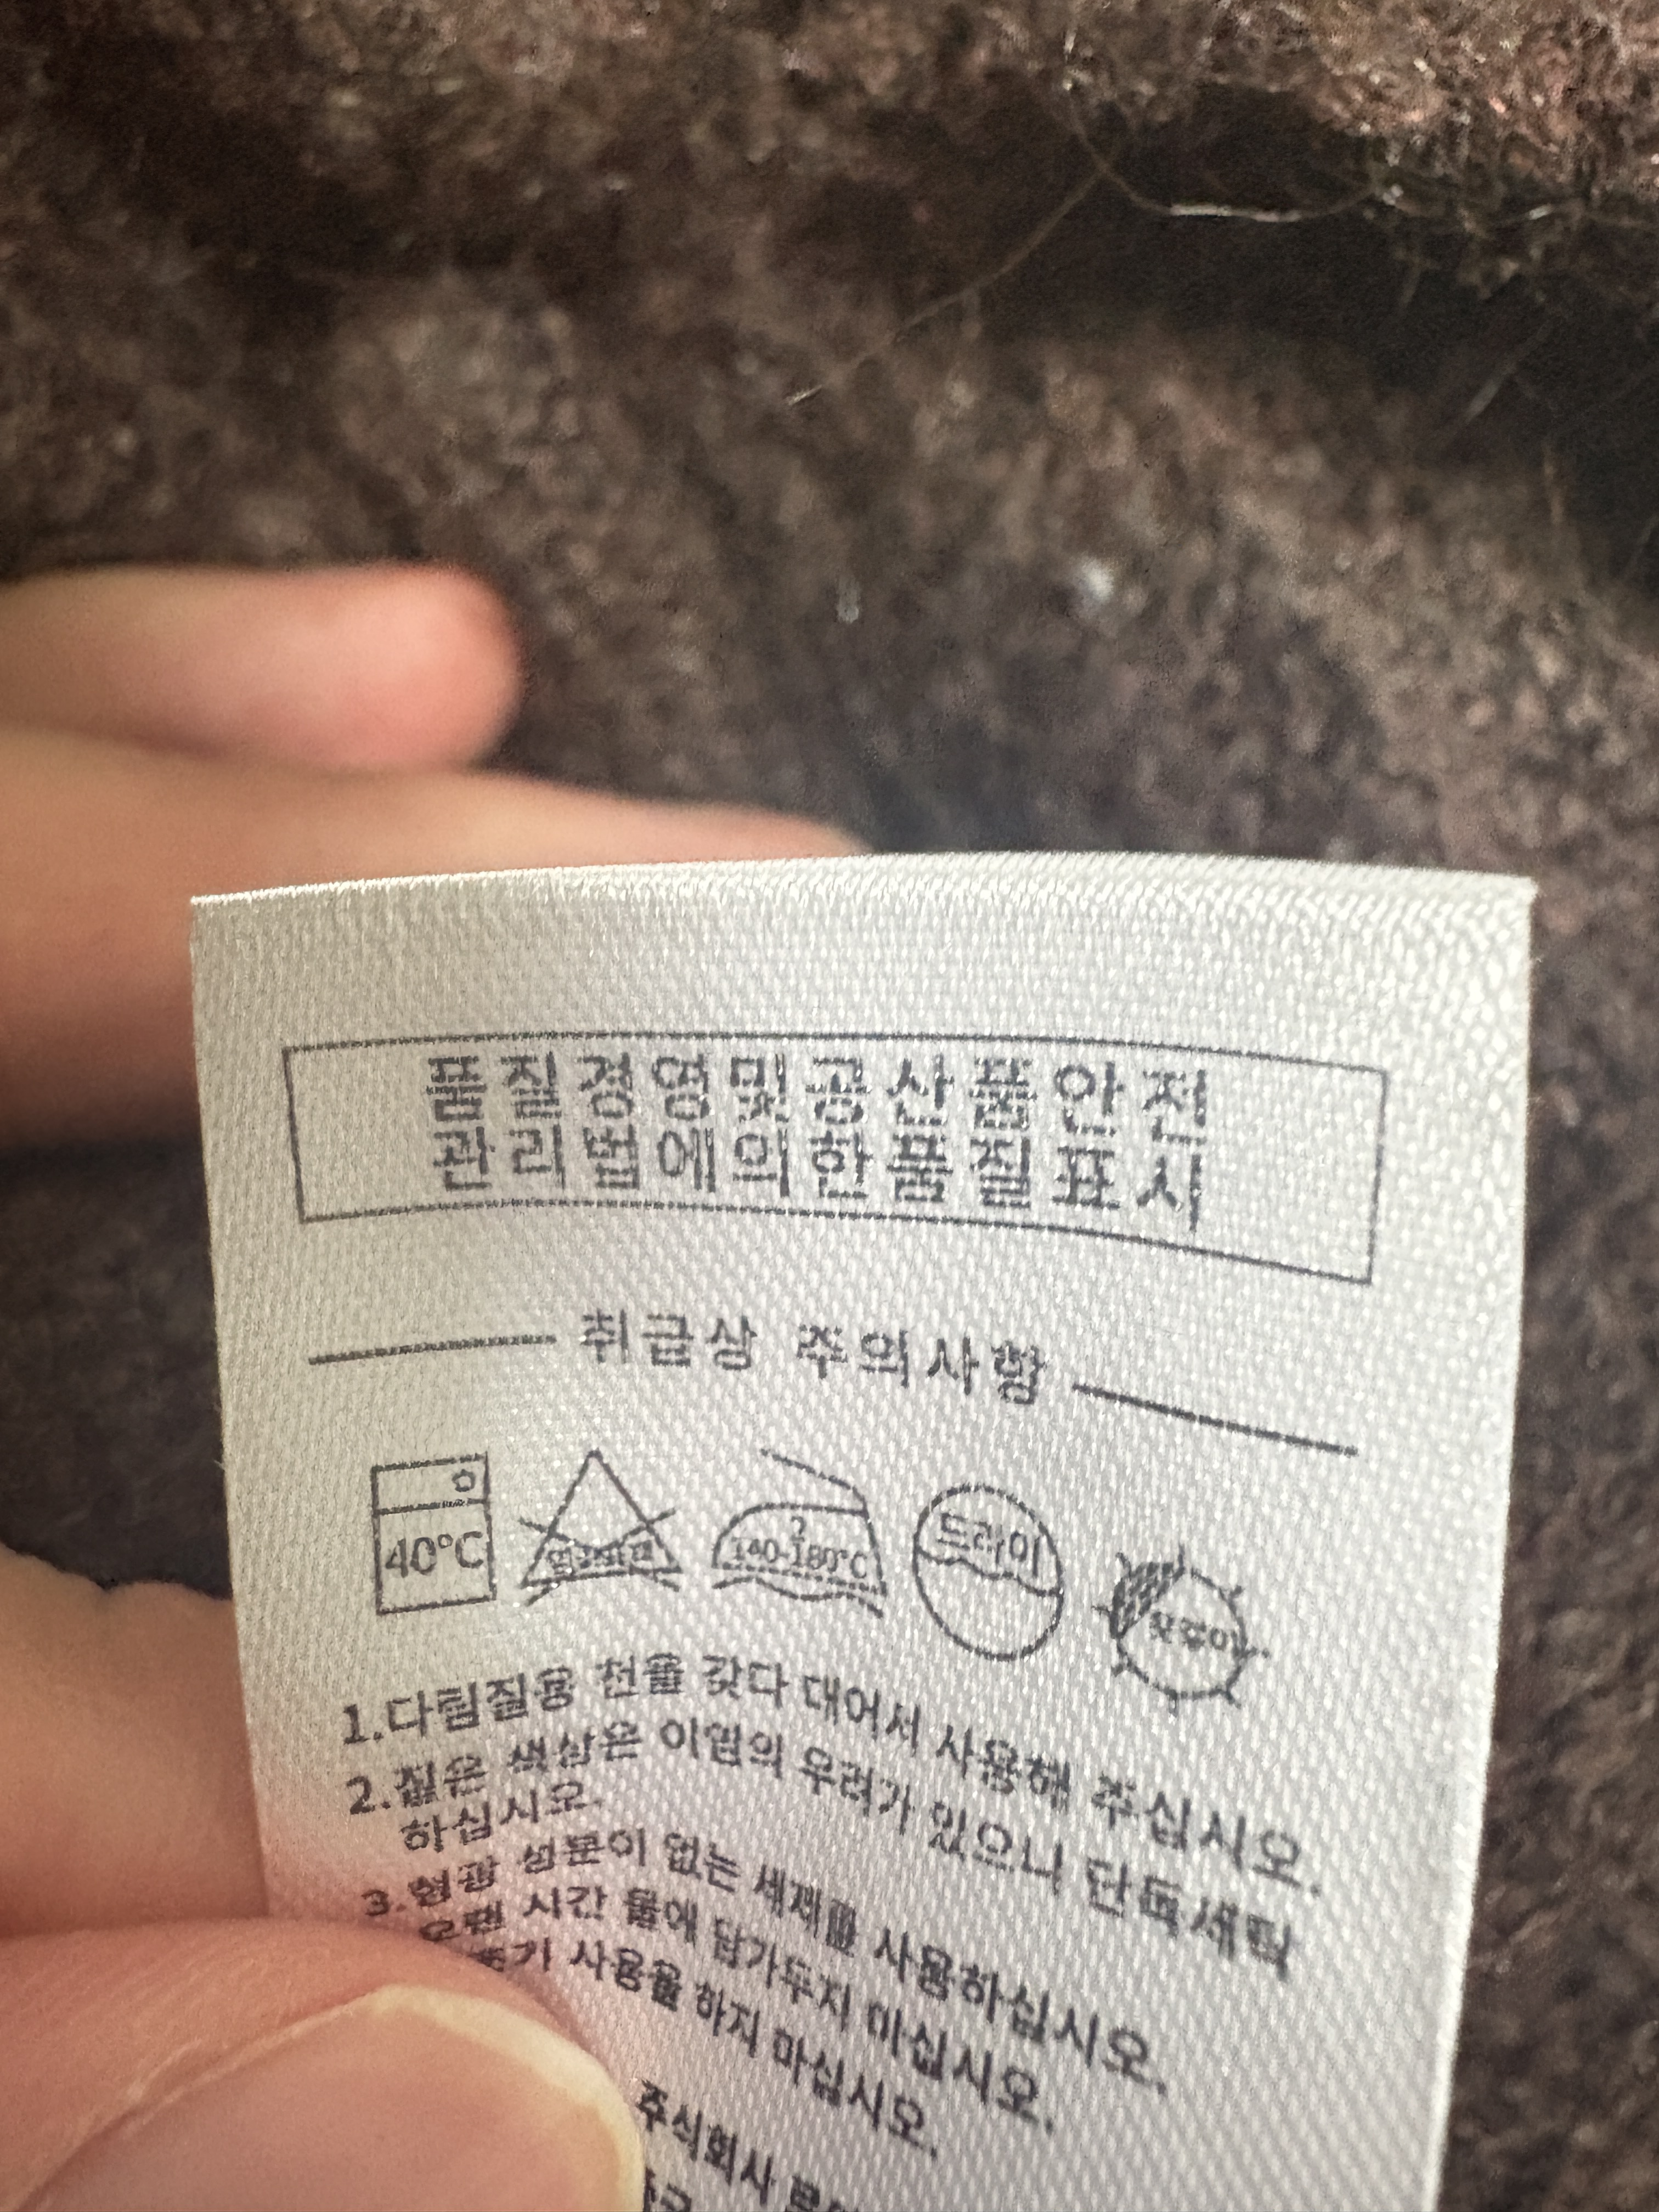40C: (354, 1433, 509, 1627)
DN_bleach: (509, 1437, 695, 1616)
dry_clean: (910, 1470, 1068, 1669)
dry_flat_in_shade: (1101, 1540, 1265, 1710)
iron_low: (711, 1439, 884, 1613)
